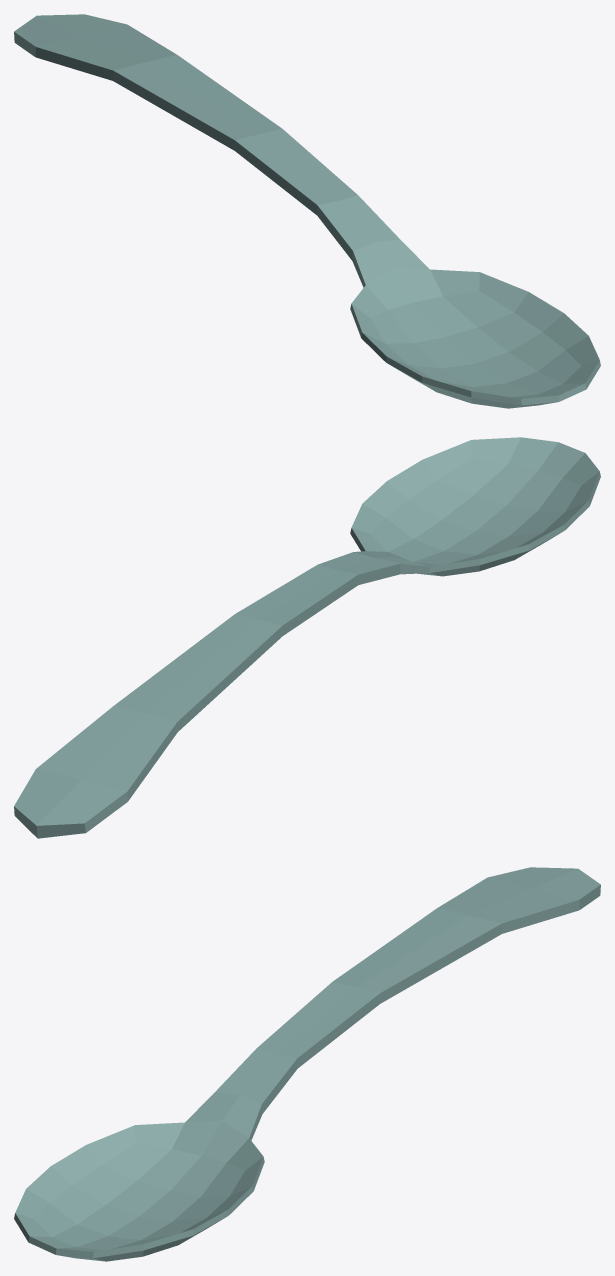
The model's file is spoom.fbx.
3 renders of one model, top to bottom at view 1: azimuth 30°, elevation 25°; view 2: azimuth 150°, elevation 25°; view 3: azimuth 330°, elevation 25°, orthographic.
Parts seen in each view (by area): view 1: Roundcube; view 2: Roundcube; view 3: Roundcube.
Part boxes in pixels (left/top/right/bottom): Roundcube: left=14, top=14, right=600, bottom=408; Roundcube: left=14, top=437, right=600, bottom=838; Roundcube: left=14, top=867, right=600, bottom=1261.
Bounding box in the file's own units: 203 × 88.25 × 1027.
